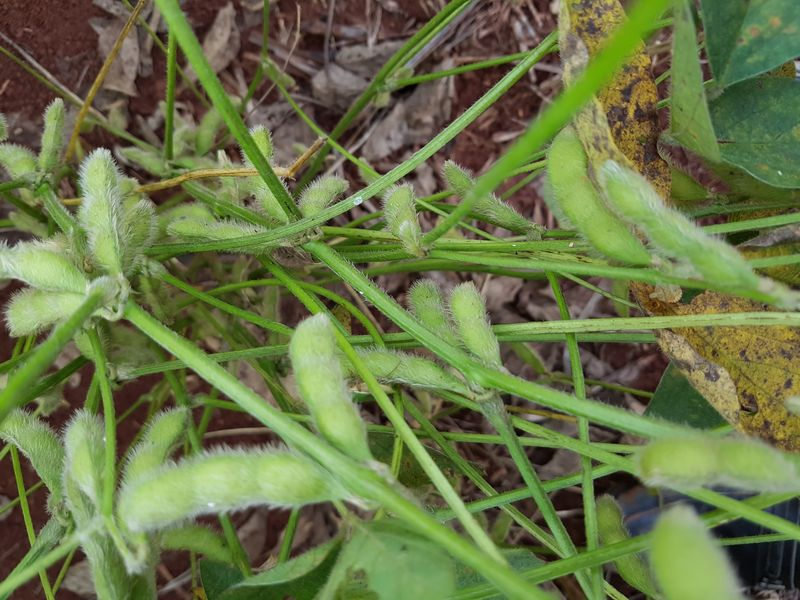Edessa_meditabunda: (333, 358, 407, 413)
Euschistus_heros_ninfa: (640, 270, 692, 315)
